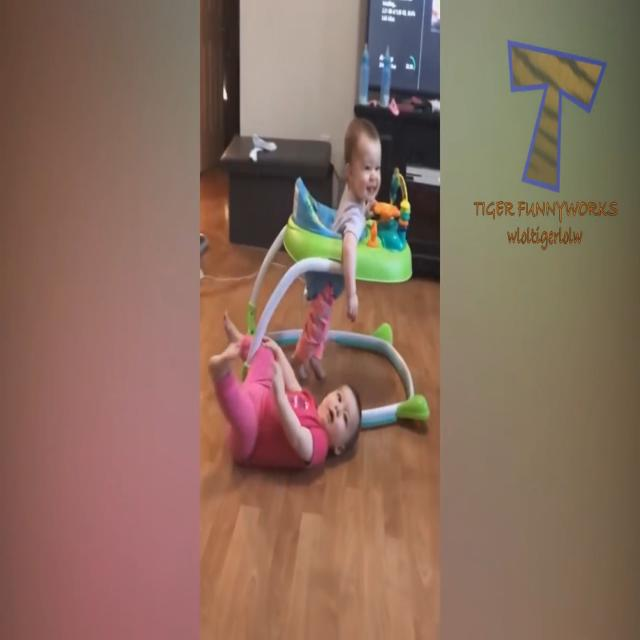dangerous: (213, 294, 370, 496)
safe: (282, 95, 390, 379)
